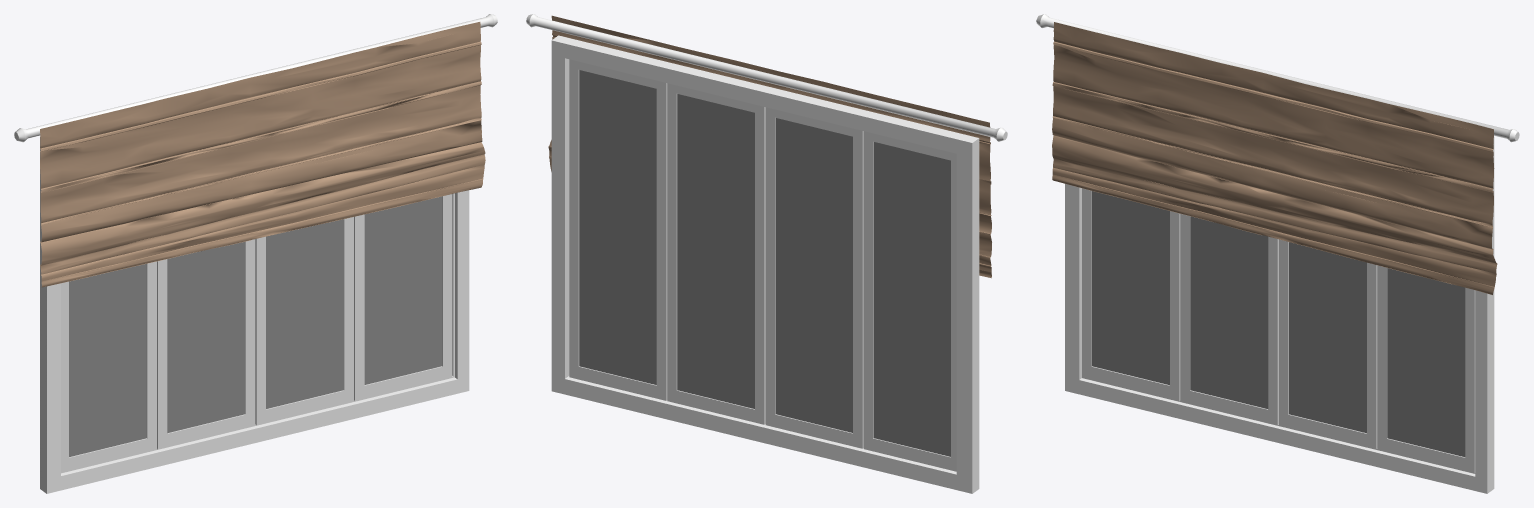
Rendered from Window.FBX.
3 renders of one model, left to right at view 1: azimuth 30°, elevation 25°; view 2: azimuth 150°, elevation 25°; view 3: azimuth 330°, elevation 25°, orthographic.
Visible parts, largest first — view 1: window, window 3, window 2, window 1, window 4; view 2: window, window 2, window 1, window 3, window 4; view 3: window, window 4, window 3, window 2, window 1.
Part boxes in pixels (x1,y1,x2,y2): window: (14,14,497,493); window 3: (157,239,255,449); window 2: (255,217,353,425); window 1: (354,194,452,401); window 4: (61,261,156,472); window: (526,14,1007,493); window 2: (667,83,765,424); window 1: (569,59,667,400); window 3: (765,107,863,448); window 4: (863,131,956,471); window: (1036,14,1519,493); window 4: (1082,188,1180,401); window 3: (1180,214,1278,425); window 2: (1279,239,1377,449); window 1: (1377,265,1475,473).
Size of the model in its own units: 212 by 156 by 8.69.
